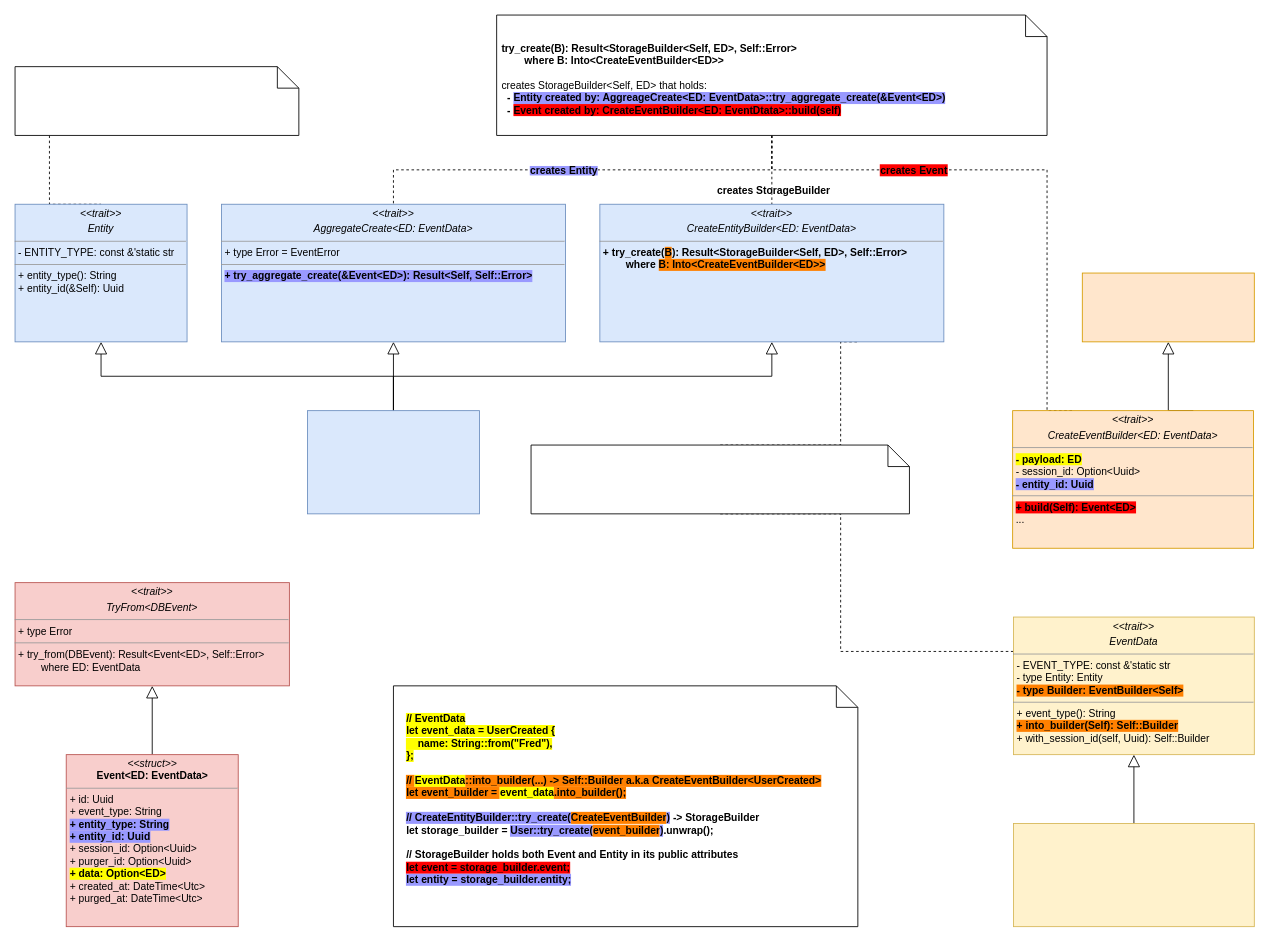
The diagram is 1269 pixels wide and 942 high, and some of its shapes have lost their labels. The centre of each missing label's shape, as x and y in pixels:
<<struct>> User - payload: ... + api(...): ...: [393,462]
<<struct>> UserCreated - payload: ... + api(...): ...: [1133,875]
<<trait>> From<ED: EventData> + from(ED): Self: [1167,307]
added by: #[derive(event_sauce_derive::CreateEventData] on UserCreated: [719,479]
added by: #[derive(event_sauce_derive::Entity)] on User: [156,100]
